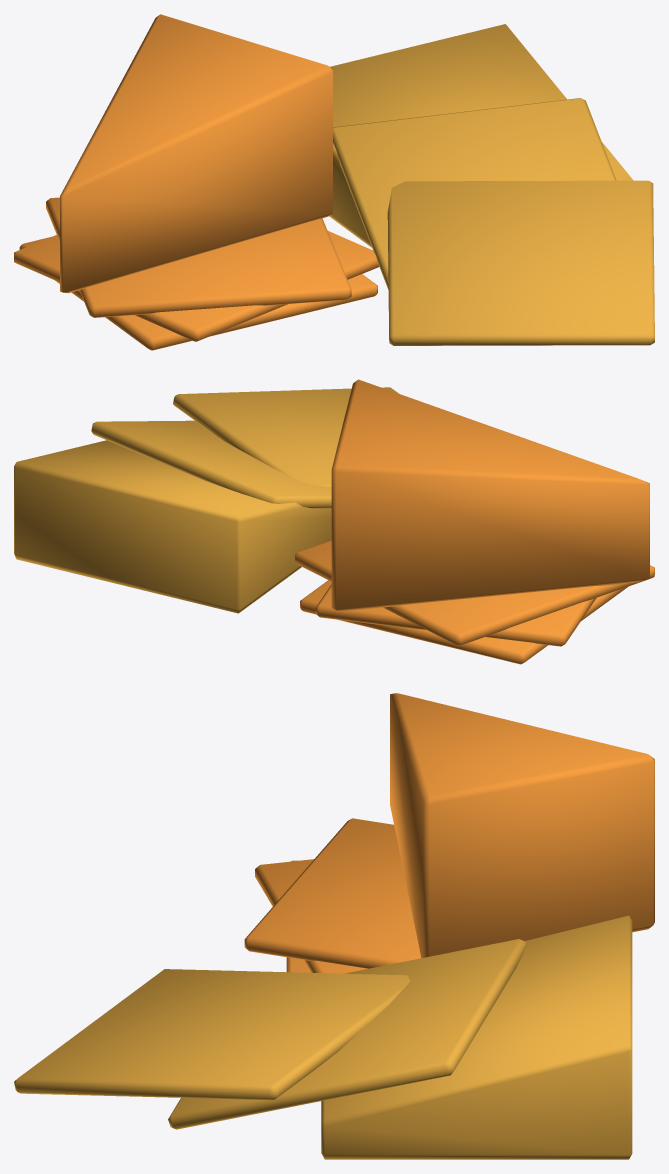
The model's file is CheesePiece&Slices.fbx.
3 renders of one model, top to bottom at view 1: azimuth 30°, elevation 25°; view 2: azimuth 150°, elevation 25°; view 3: azimuth 270°, elevation 25°, orthographic. The views are drawn at different scales.
Parts seen in each view (by area): view 1: cheeseGroup3; view 2: cheeseGroup3; view 3: cheeseGroup3.
Boxes of the visible parts, bbox=[...] form: cheeseGroup3: bbox=[14, 14, 654, 350]; cheeseGroup3: bbox=[14, 379, 654, 664]; cheeseGroup3: bbox=[14, 693, 654, 1159].
Size of the model in its own units: 118 by 38.29 by 103.
